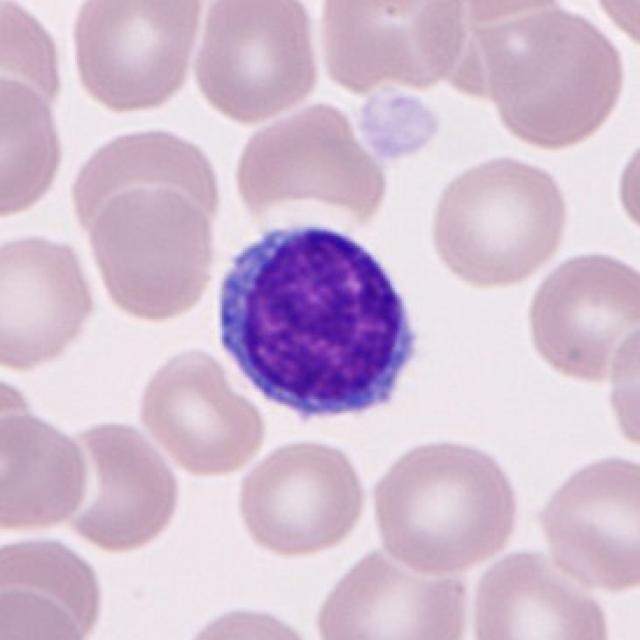Lymphocyte: (206, 212, 425, 434)
RBC: (367, 432, 523, 577), (482, 3, 630, 152), (229, 97, 392, 231), (425, 151, 573, 291), (67, 121, 222, 252), (84, 184, 220, 324), (133, 342, 269, 478), (58, 416, 185, 555), (233, 434, 369, 560), (189, 0, 325, 125), (521, 246, 637, 387), (530, 447, 638, 595), (309, 544, 473, 640), (66, 0, 204, 114), (0, 226, 100, 374), (314, 0, 468, 95), (465, 544, 615, 640), (0, 529, 108, 640), (0, 409, 94, 535), (0, 70, 68, 228), (464, 2, 576, 86), (0, 2, 68, 126), (353, 83, 448, 163), (173, 600, 320, 640), (601, 319, 640, 458), (0, 583, 87, 640), (612, 125, 640, 244), (586, 0, 640, 57), (456, 0, 577, 23)
